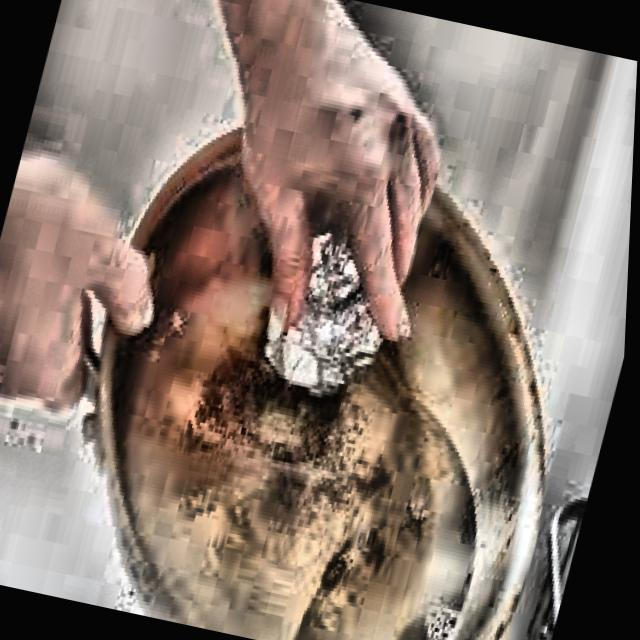Foil: (231, 200, 444, 431)
